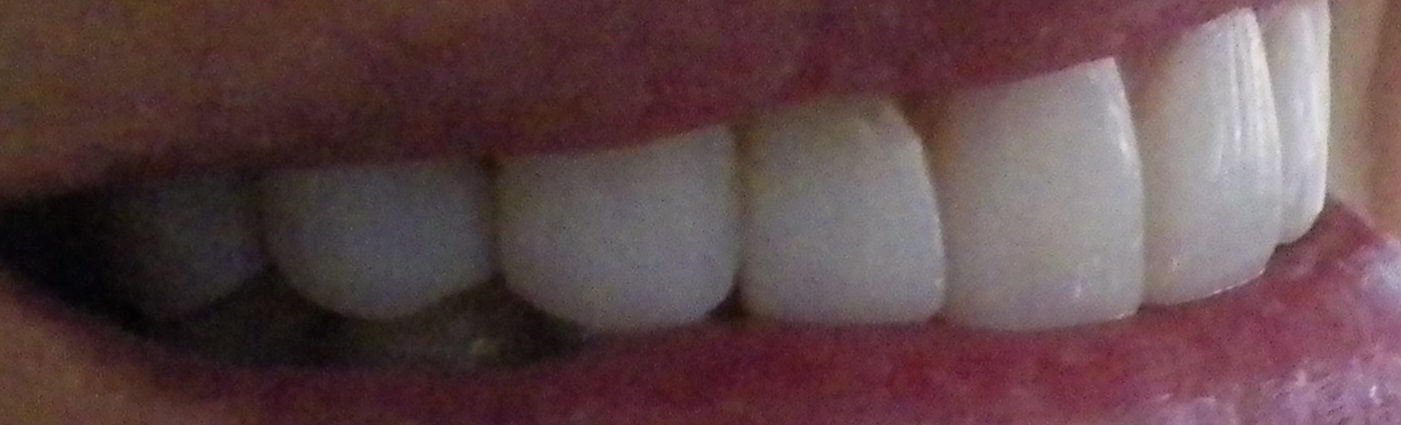boca: (86, 14, 1360, 335)
